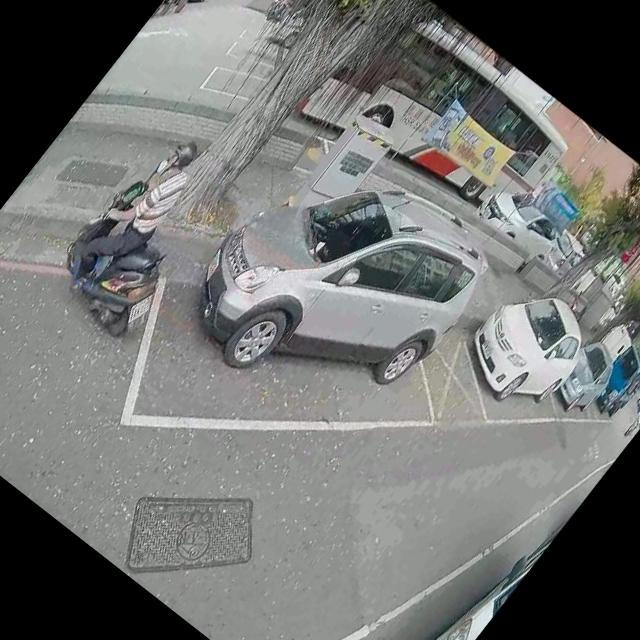person: (50, 120, 216, 311), (267, 0, 301, 22)
